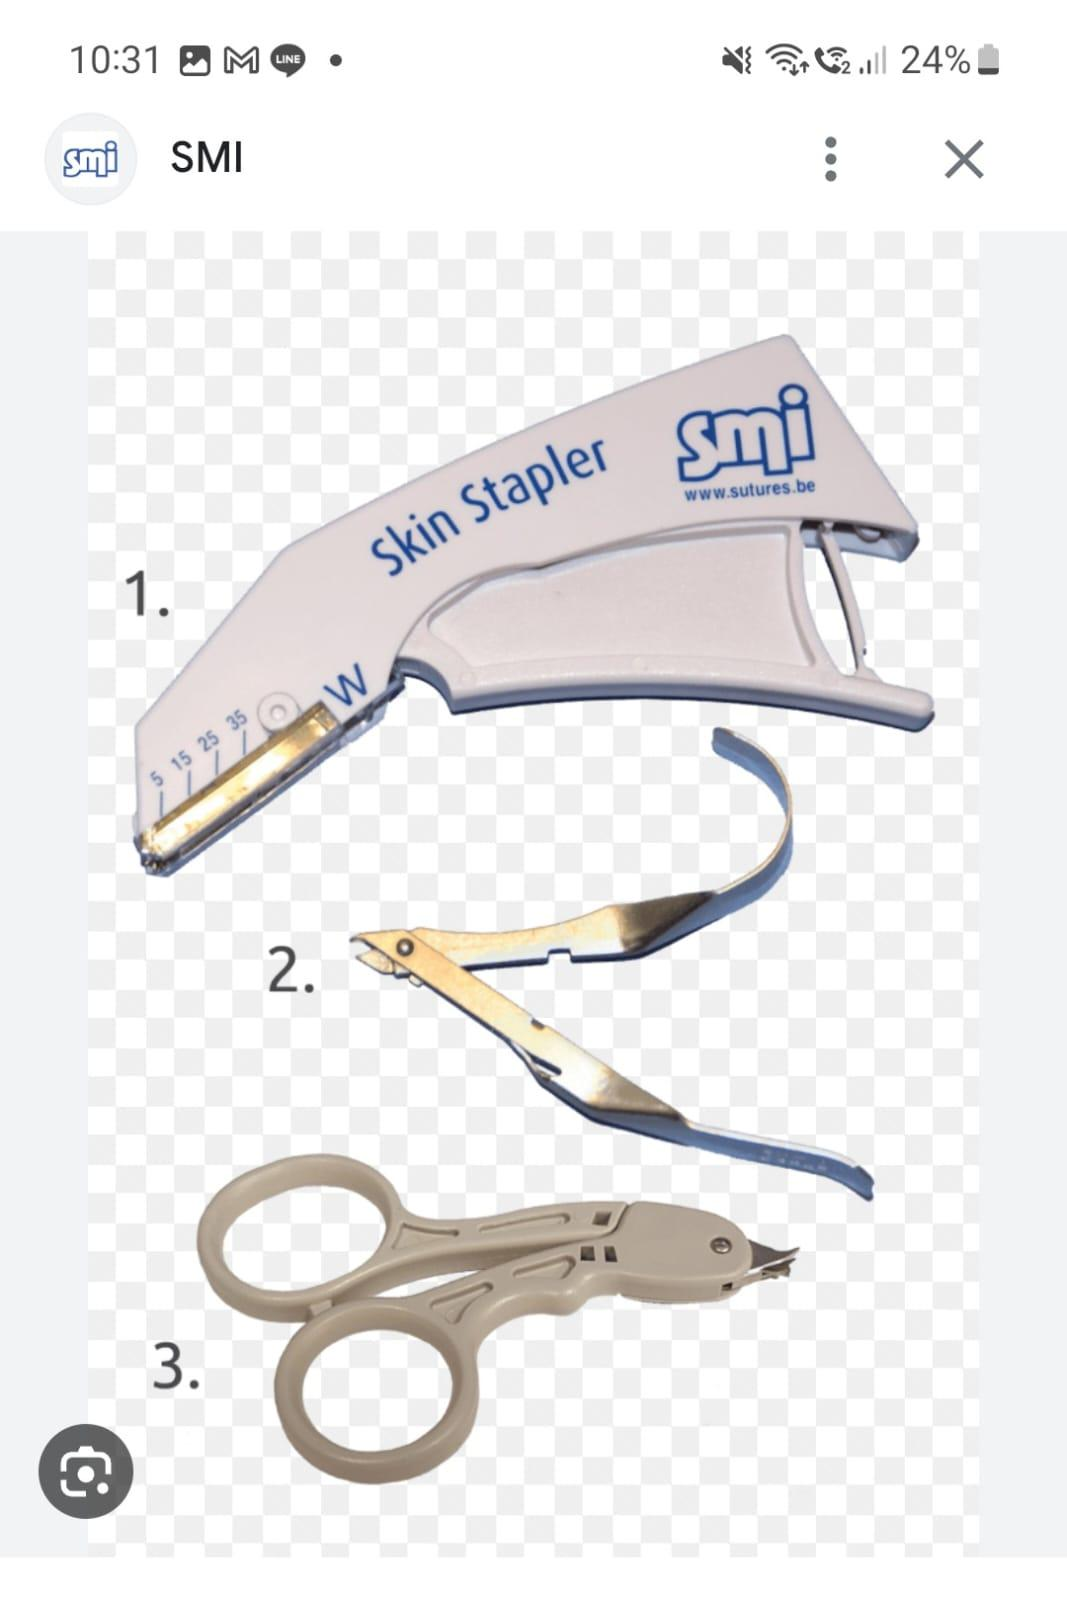Skin Stapler: (123, 318, 935, 885)
Stapler Remover: (345, 712, 898, 1212), (195, 1157, 832, 1493)
